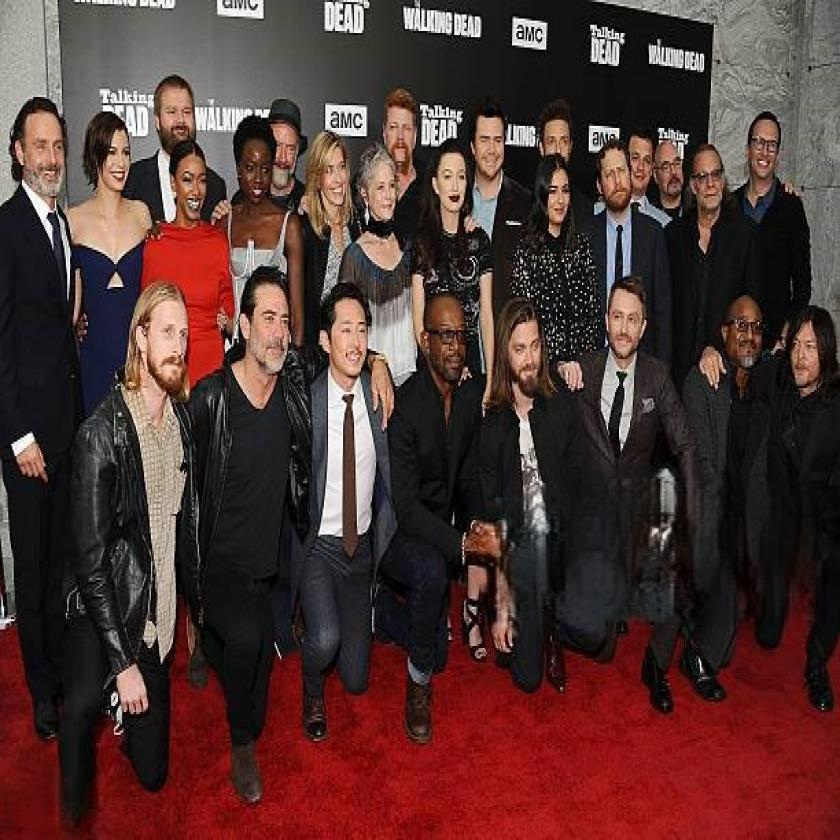Sin_casco: (128, 274, 196, 416), (238, 264, 299, 394), (9, 93, 71, 215), (422, 284, 473, 401), (601, 266, 654, 377), (82, 106, 138, 208), (325, 288, 378, 393), (498, 296, 552, 398), (235, 114, 277, 226), (358, 145, 402, 244), (151, 68, 199, 155), (532, 152, 574, 250), (745, 104, 787, 201), (689, 144, 730, 243), (434, 132, 476, 226), (727, 286, 766, 385), (309, 129, 353, 215), (598, 135, 636, 234), (174, 136, 212, 234), (469, 96, 510, 186), (792, 302, 828, 397), (384, 82, 418, 181), (623, 120, 660, 210), (538, 94, 576, 168), (657, 136, 680, 216)
